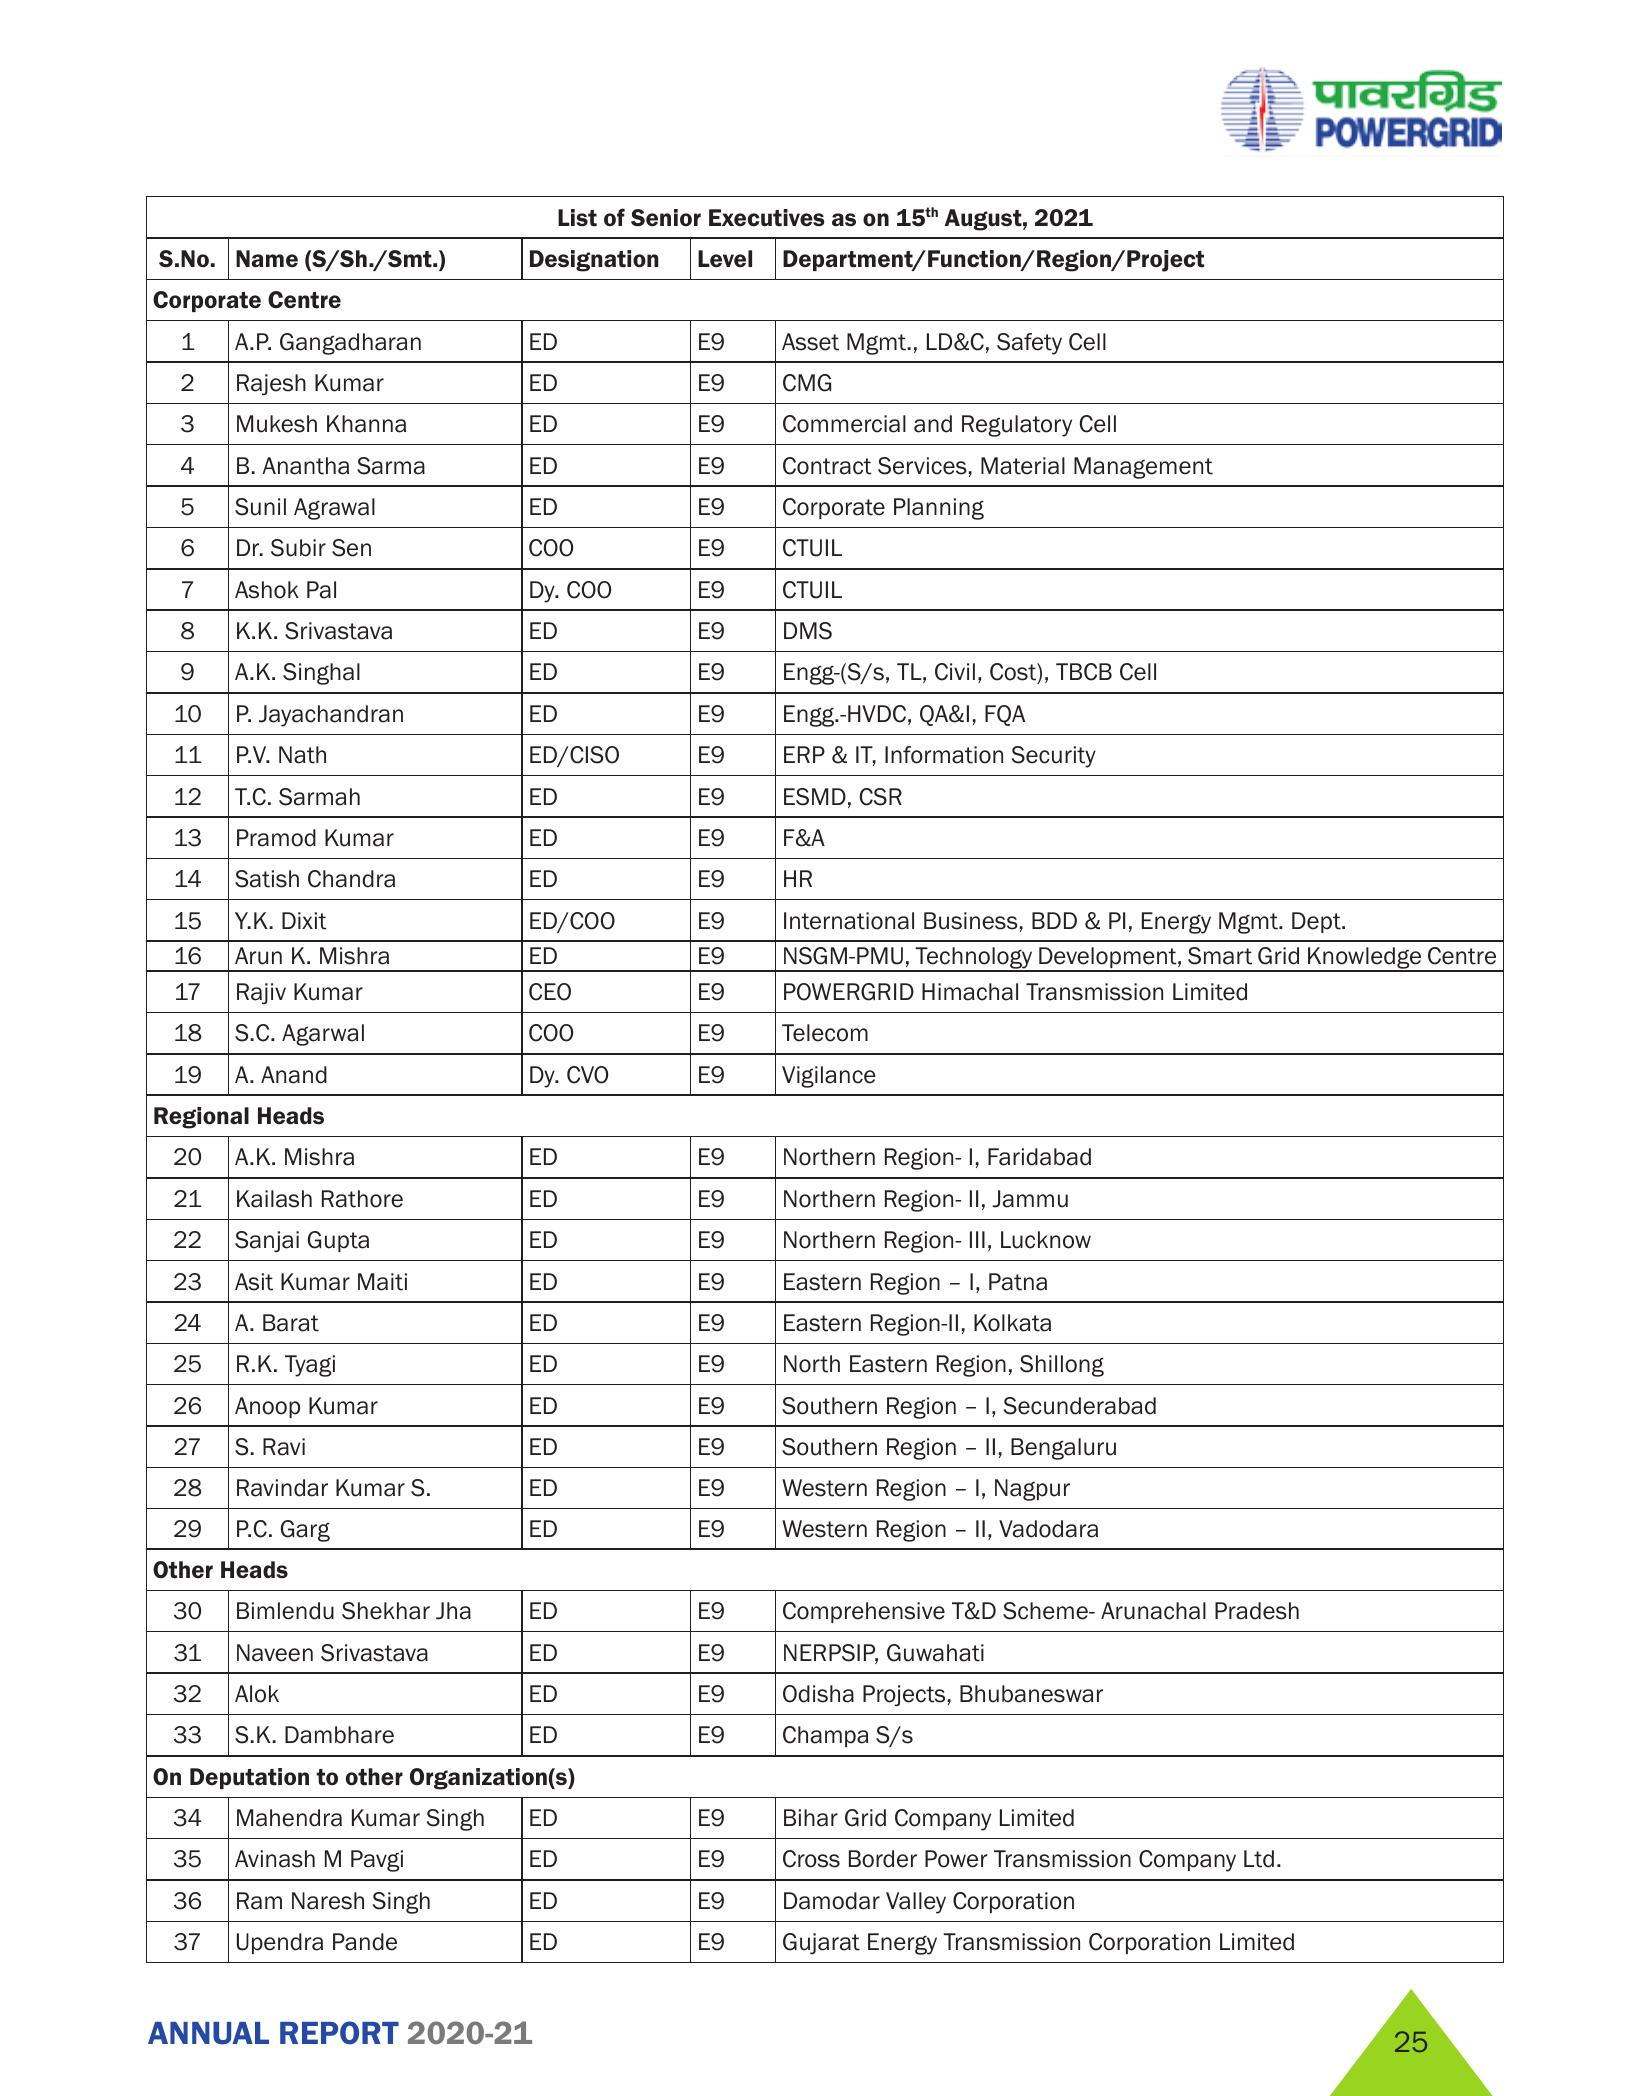Footer: (0, 1979, 1650, 2096)
Header: (0, 0, 1650, 163)
Table: (114, 196, 1606, 1982)
